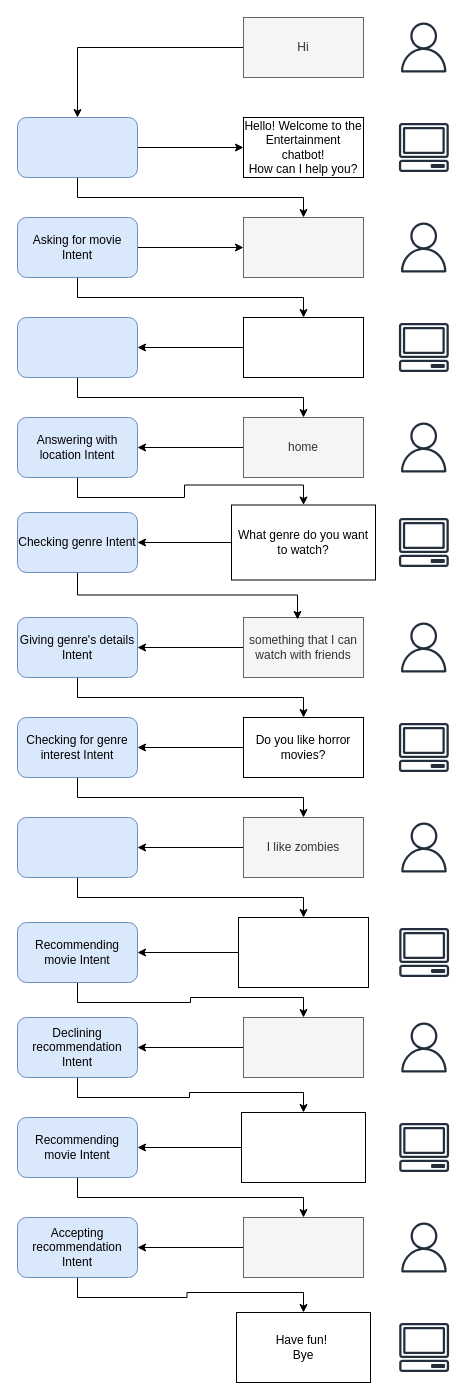
The diagram is 467 pixels wide and 1400 high, and some of its shapes have lost their labels. The shapes that lost their labels are listed below. From the top down, each one's box as (x1, y1, x2, y2) in pixels, then its label:
(16, 116, 138, 178): Introduction Intent
(242, 216, 364, 278): I want to watch a movie
(16, 316, 138, 378): Checking location Intent
(242, 316, 364, 378): Do you want to watch a movie at a cinema theater or at home?
(16, 816, 138, 878): Answering with interest Intent
(238, 916, 368, 988): You could watch Resident Evil.
(242, 1016, 364, 1078): I've already watched that
(240, 1112, 366, 1182): You could watch Train to Busan.
(242, 1216, 364, 1278): Okay, thanks
